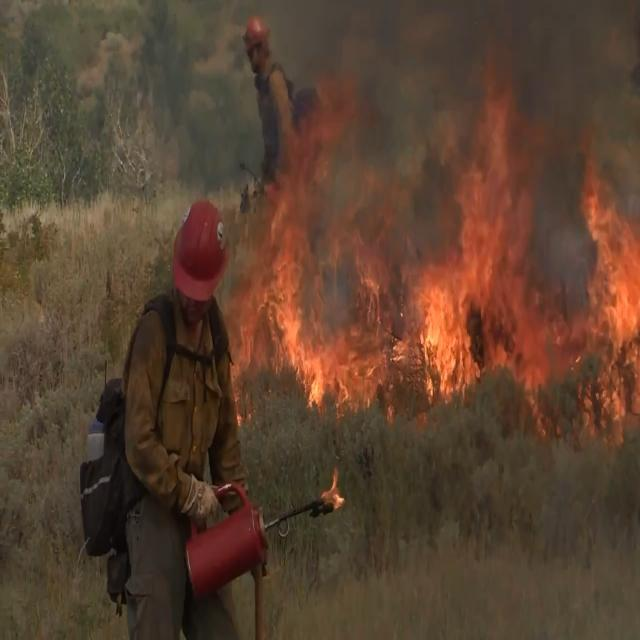Fire: (233, 86, 640, 430)
